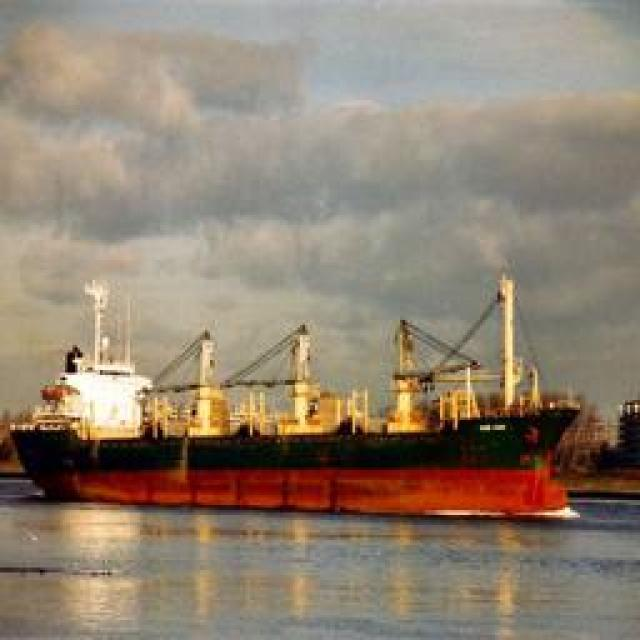CIV_Ship: (9, 288, 612, 518)
